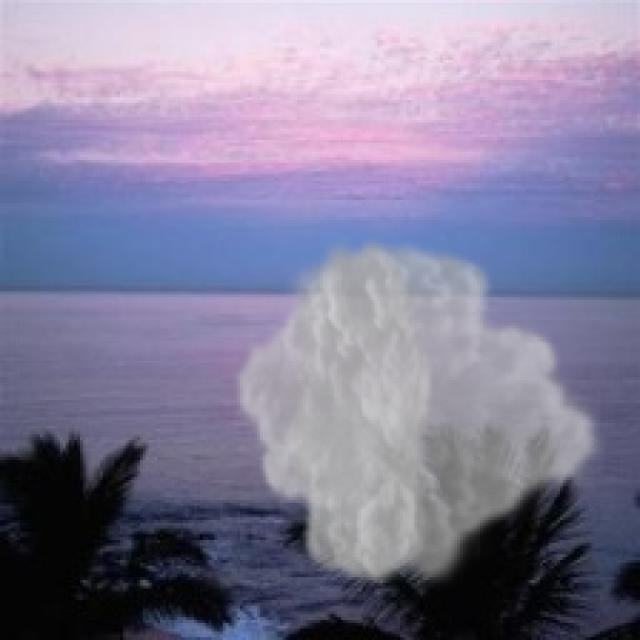smoke: (231, 232, 606, 594)
